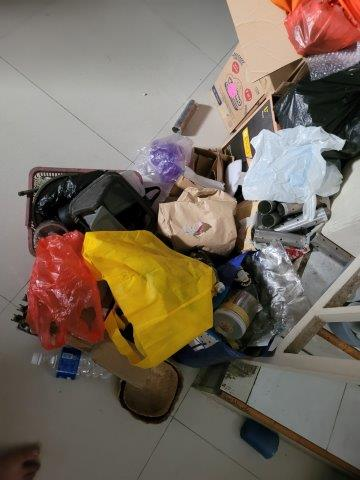botolplastik: (28, 347, 115, 384)
kardus: (208, 1, 301, 116)
plastik: (239, 132, 337, 208), (32, 236, 98, 344), (285, 8, 360, 56), (141, 140, 193, 192)
